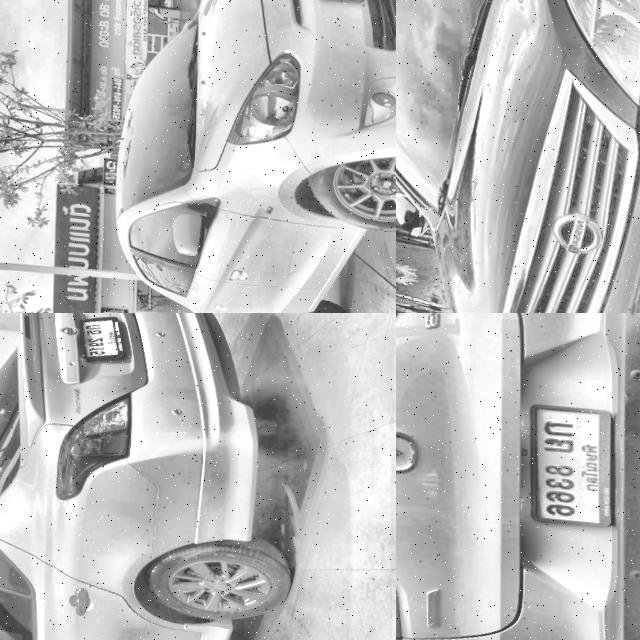license-plate: (529, 396, 613, 521), (75, 313, 128, 356)
